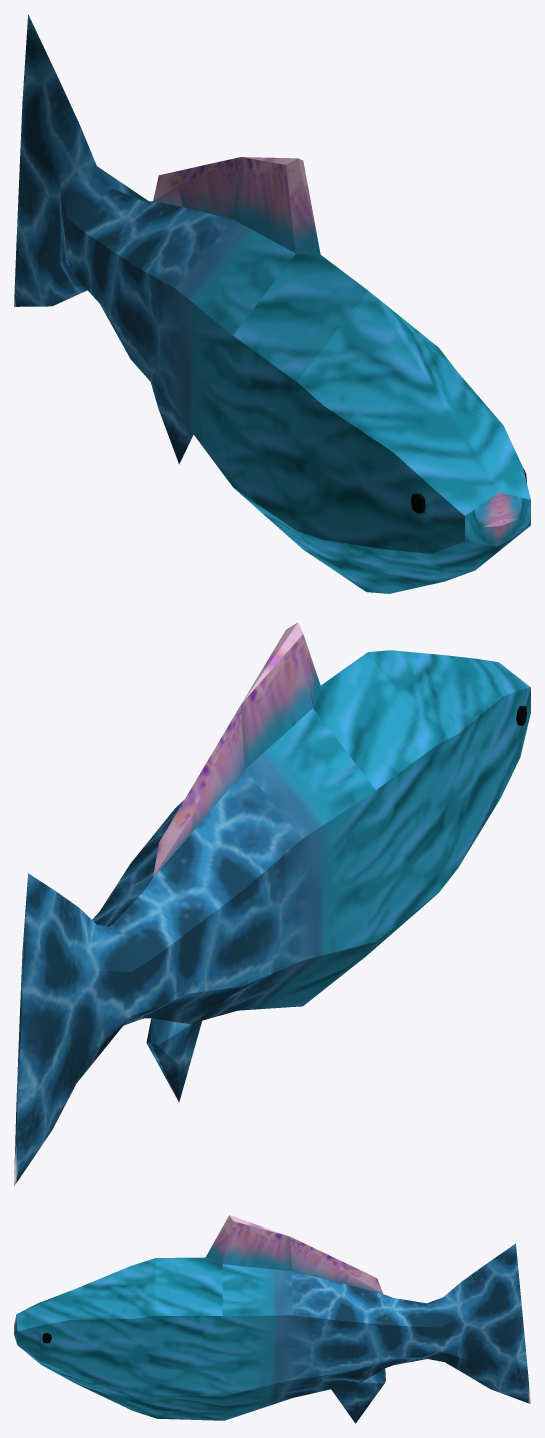
File: Normal Fish.fbx
3 views of the same model, one above another, from view 1: azimuth 30°, elevation 25°; view 2: azimuth 150°, elevation 25°; view 3: azimuth 270°, elevation 25° (orthographic). The views are drawn at different scales.
Parts seen in each view (by area): view 1: Fish; view 2: Fish; view 3: Fish.
Part boxes in pixels (box(x1,y1,x2,y2)): Fish: box(14, 14, 530, 593); Fish: box(14, 622, 530, 1186); Fish: box(14, 1215, 530, 1423).
Size of the model in its own units: 16.06 by 42.23 by 94.78.
